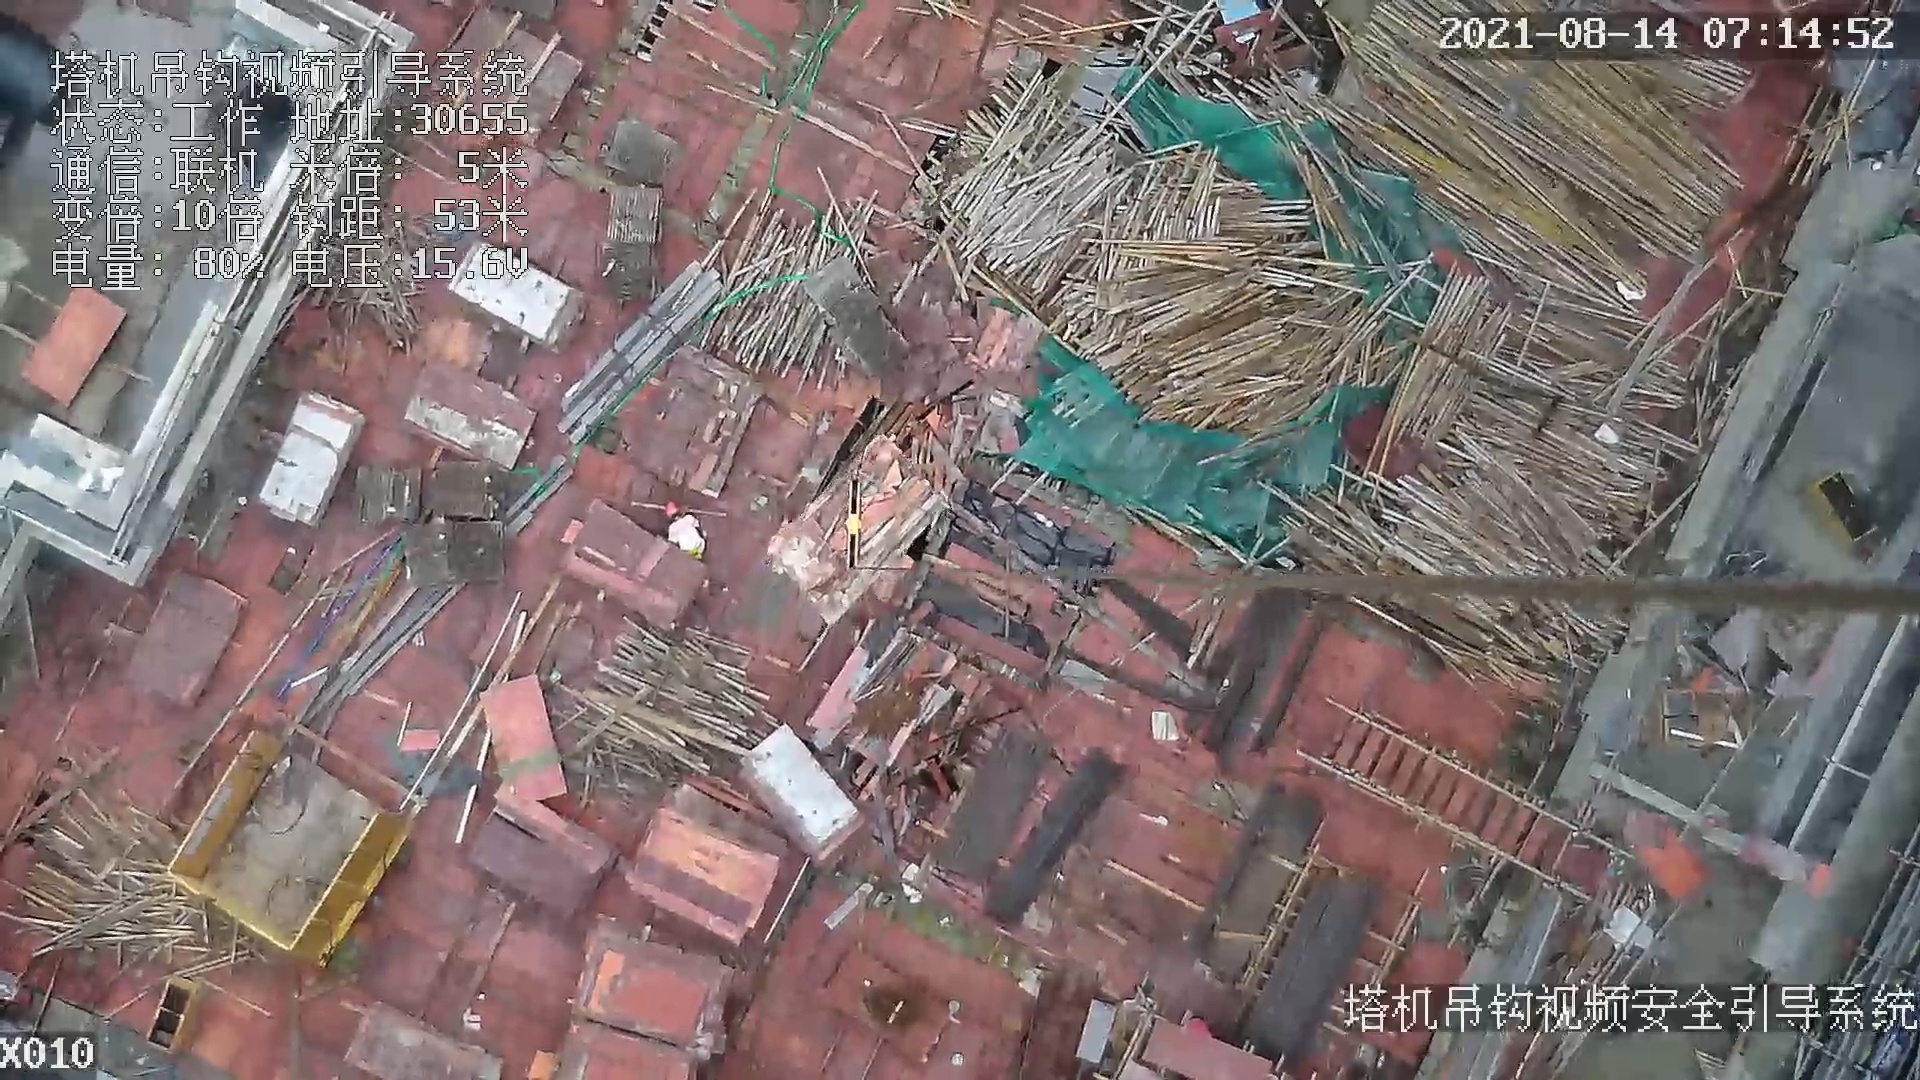hook: (840, 476, 869, 574)
